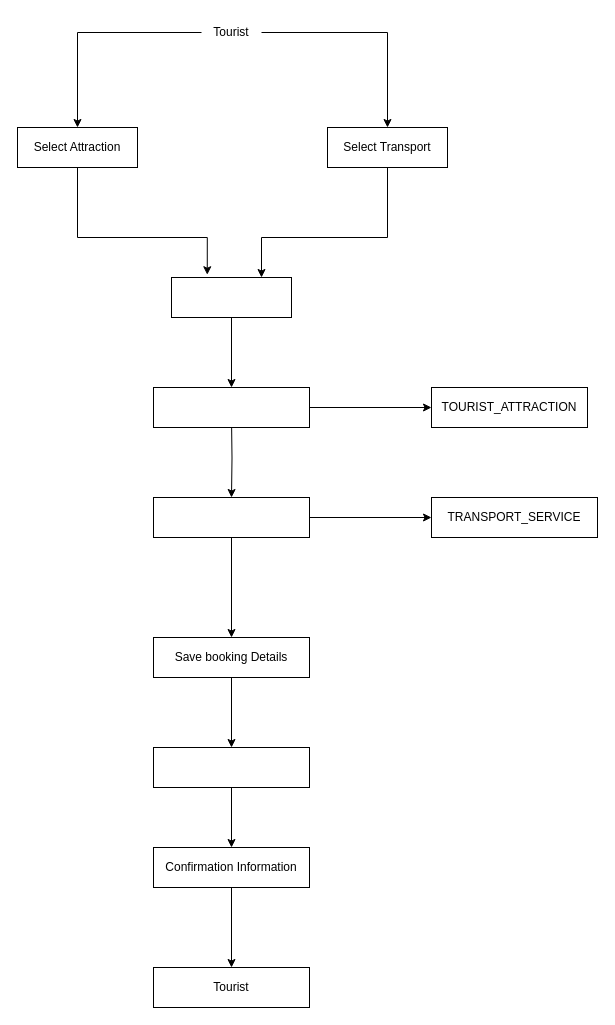
This 615x1025 diagram has some shape labels left out. The box of each missing label's shape, as (x1, y1, x2, y2) in pixels:
2.1 Create Booking: (170, 276, 292, 318)
BOOKING Database: (152, 746, 310, 788)
Read Attraction Information: (152, 386, 310, 428)
Read Transport Availability: (152, 496, 310, 538)
